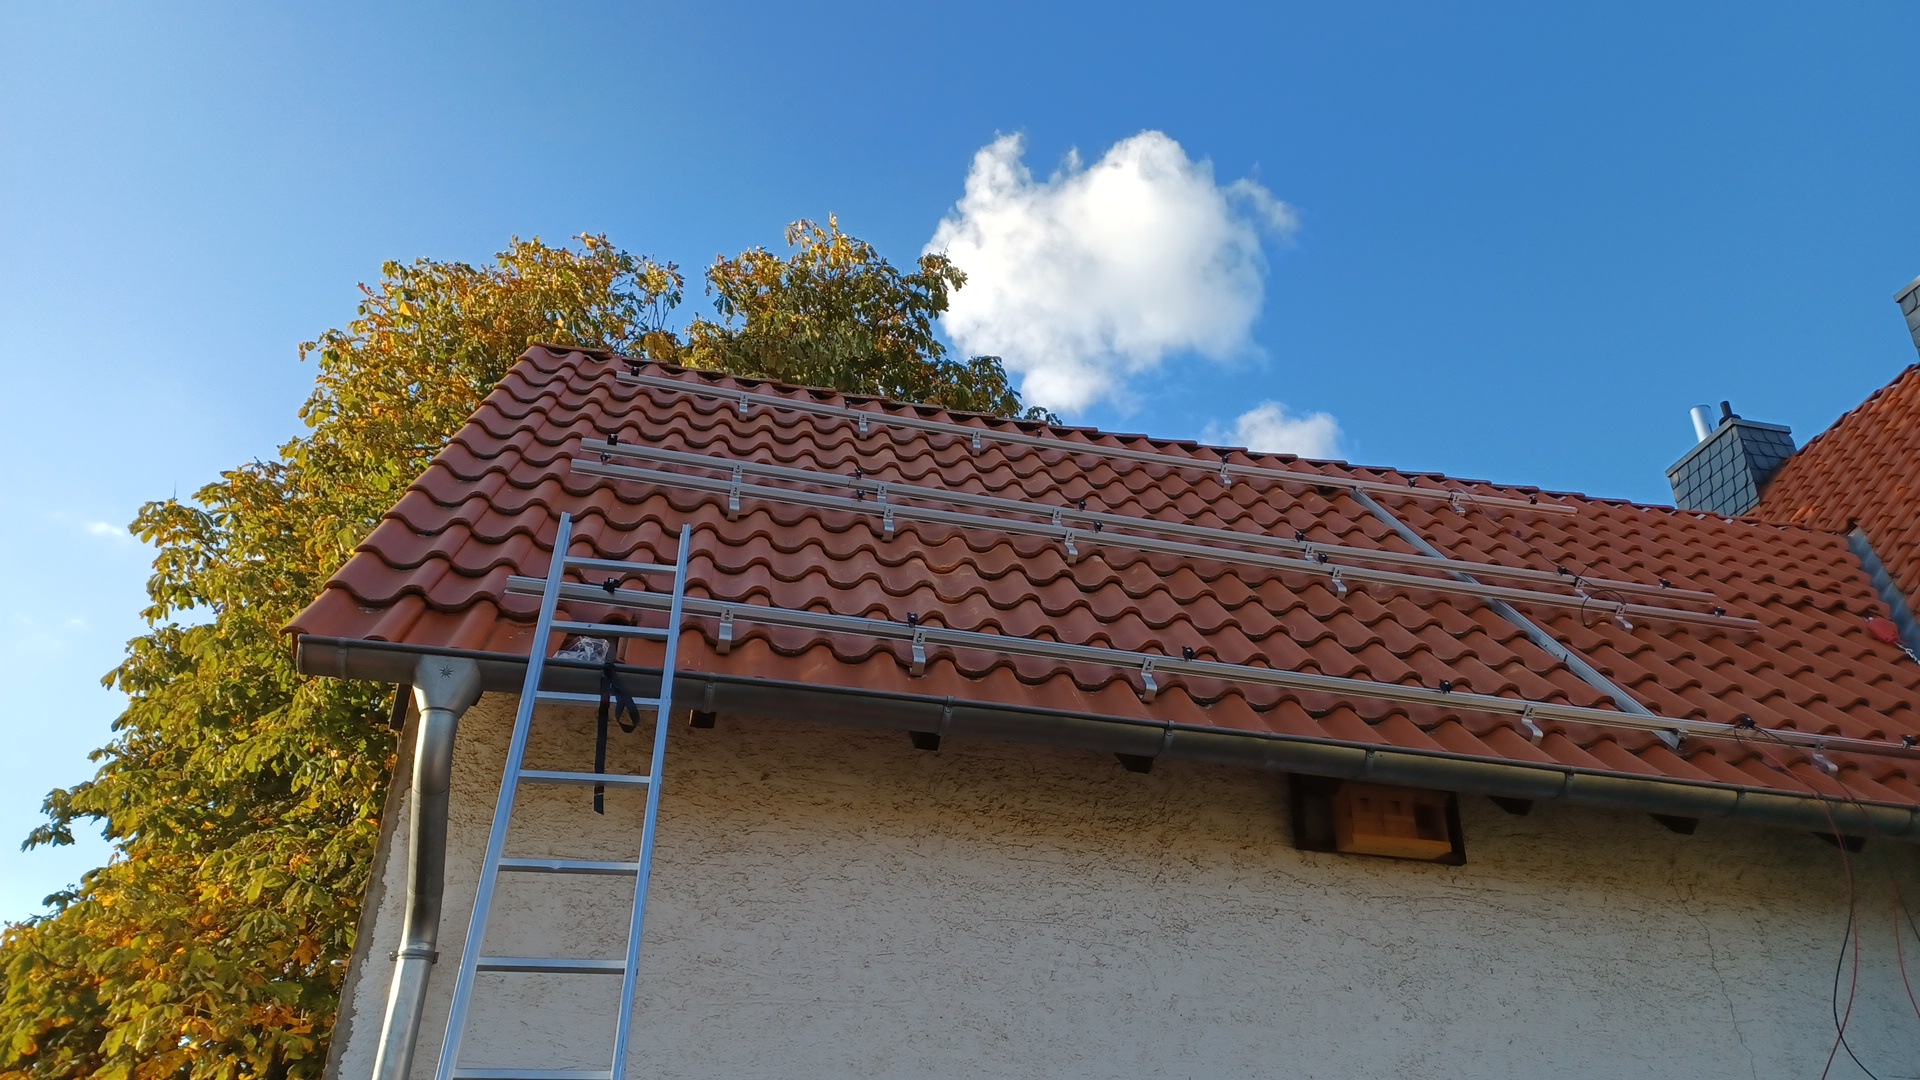hook: (1519, 704, 1543, 745), (1813, 738, 1838, 775), (1138, 657, 1158, 703), (909, 629, 926, 676), (716, 605, 732, 653), (1331, 567, 1346, 599), (1615, 604, 1633, 633), (1064, 529, 1077, 564), (727, 484, 738, 521), (882, 506, 894, 541), (1575, 578, 1592, 597), (1220, 464, 1232, 491), (738, 392, 748, 422), (1452, 495, 1465, 516), (972, 429, 981, 456), (858, 411, 866, 440), (732, 462, 742, 483), (877, 483, 887, 502), (1304, 545, 1317, 560), (1052, 508, 1062, 526)
